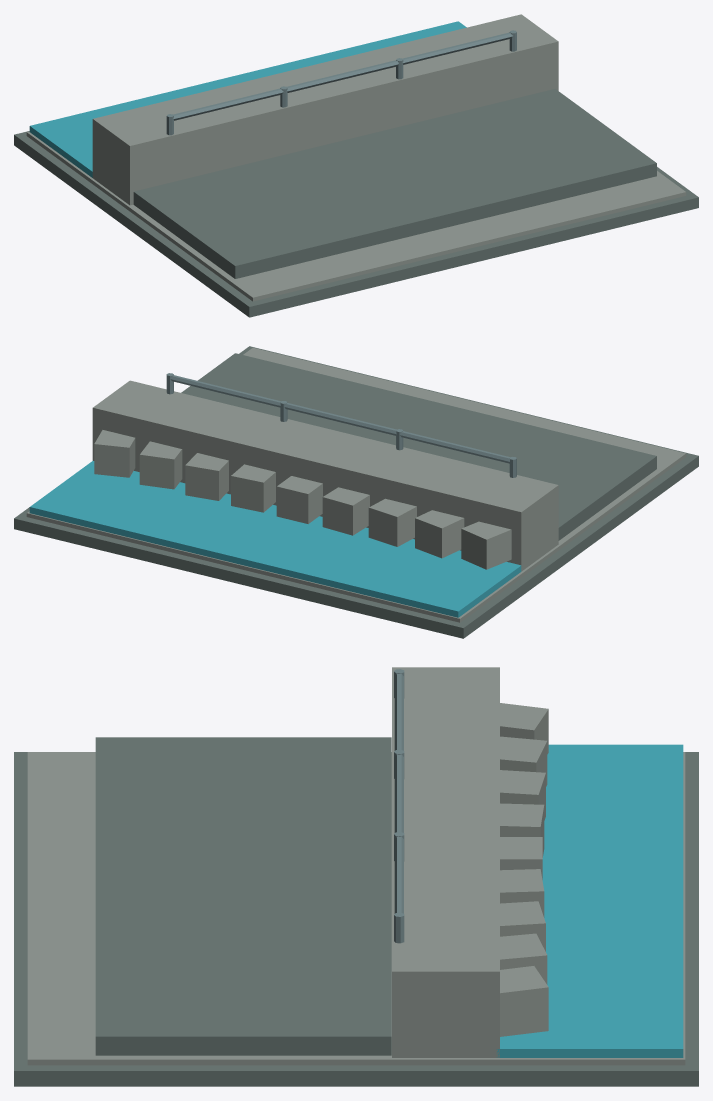
Rendered from seawall_lv1.glb.
The picture shows the model from 3 angles, top to bottom: view 1: azimuth 30°, elevation 25°; view 2: azimuth 150°, elevation 25°; view 3: azimuth 270°, elevation 25°; orthographic projection. The views are drawn at different scales.
Visible parts, largest first — view 1: rough, glossy, metallic; view 2: rough, glossy, metallic; view 3: rough, glossy, metallic.
Boxes of the visible parts, box(x1,y1,x2,y2) form: rough: box(14, 14, 698, 317); glossy: box(29, 21, 466, 177); metallic: box(166, 30, 516, 135); rough: box(14, 346, 698, 638); glossy: box(29, 461, 521, 617); metallic: box(166, 373, 516, 477); rough: box(14, 667, 698, 1086); glossy: box(496, 744, 683, 1057); metallic: box(394, 669, 404, 943).
Size of the model in its own units: 9.7 by 1.9 by 8.8.
